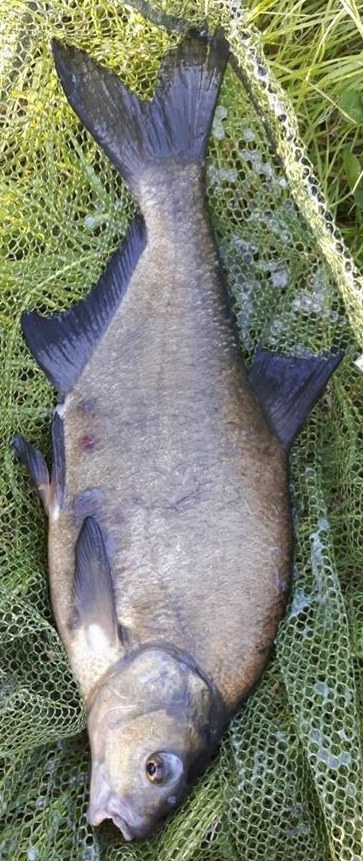Abramis brama: (20, 20, 343, 841)
